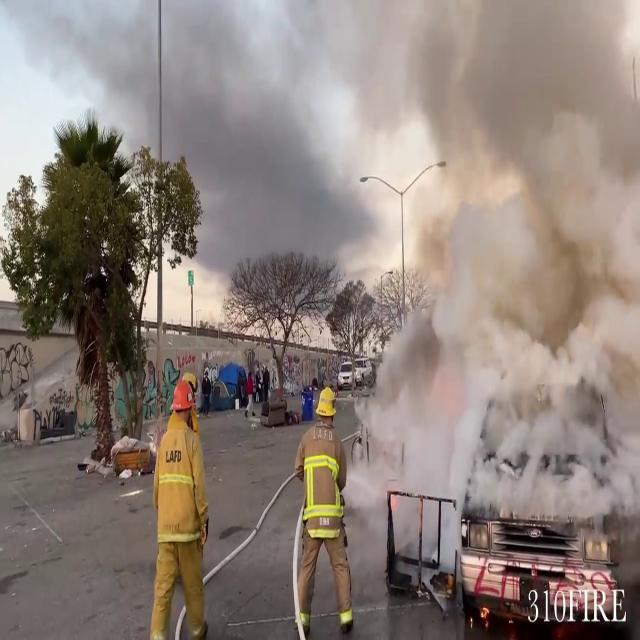Smoke: (362, 0, 640, 534)
